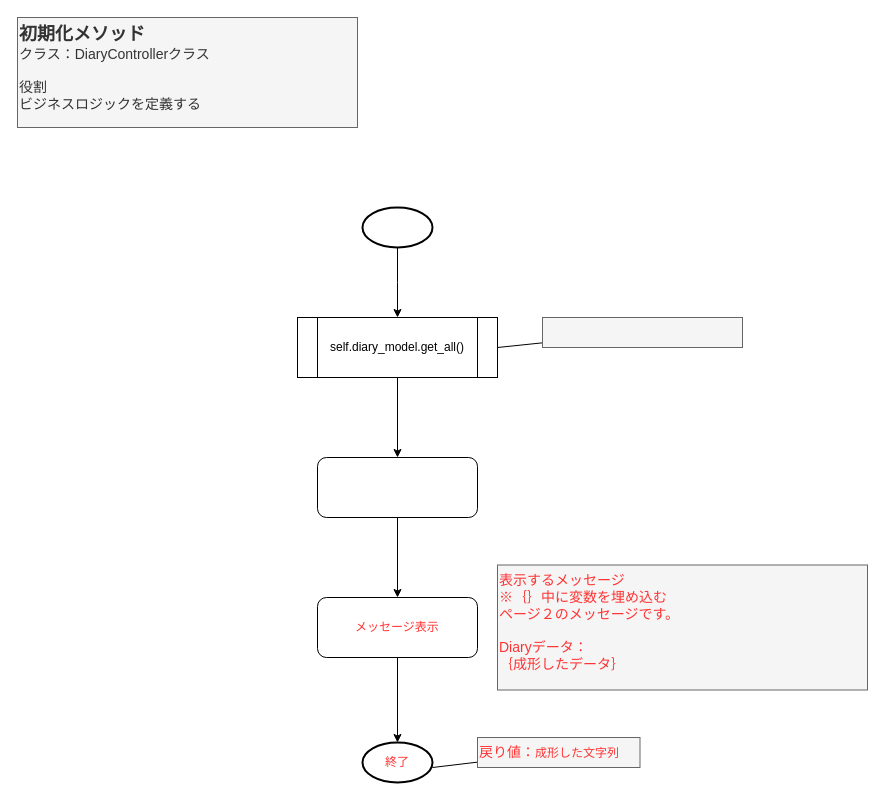
Image size: 885x801. Some labels were removed from this diagram. The shapes that lost their labels are listed below. From the top down, each one's centre as x and y in pixels, then its label:
pixel 397 227: 開始
pixel 642 332: Diaryテーブルの一覧データを取得
pixel 397 487: 取得したデータで 文字列成型
